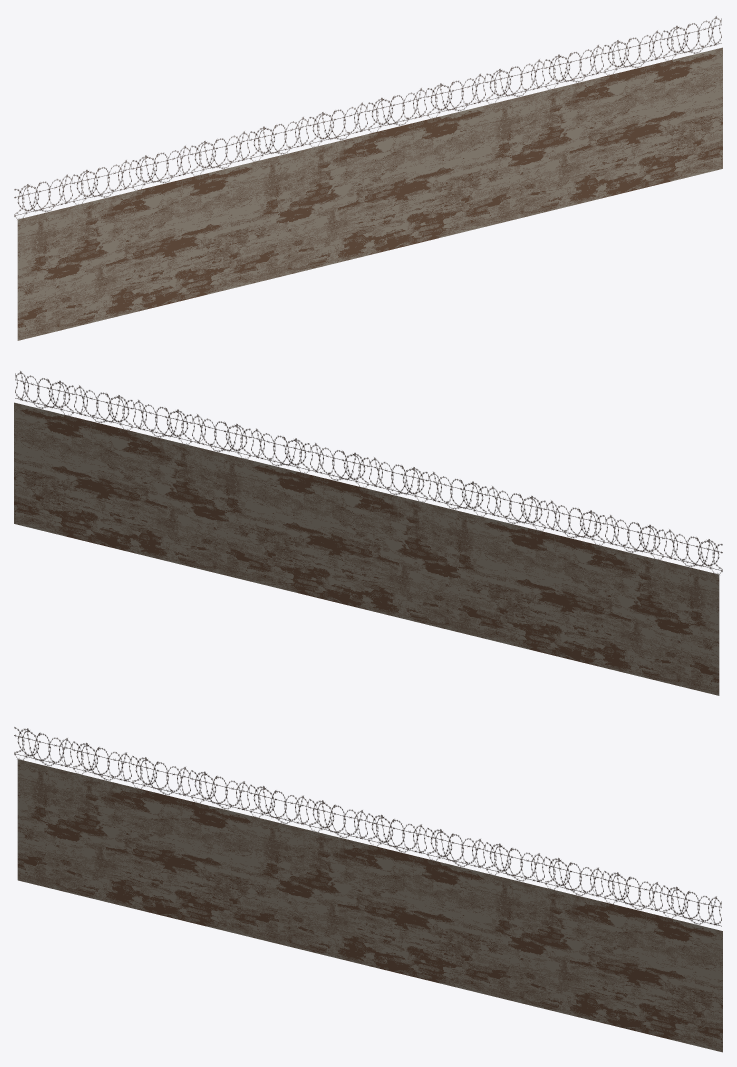
File: wall.glb
The picture shows the model from 3 angles, top to bottom: view 1: azimuth 30°, elevation 25°; view 2: azimuth 150°, elevation 25°; view 3: azimuth 330°, elevation 25°; orthographic projection.
Visible parts, largest first — view 1: Plane.003, barb_wire.003; view 2: Plane.003, barb_wire.003; view 3: Plane.003, barb_wire.003.
Boxes of the visible parts, <box> form: Plane.003: <box>17,47,722,340</box>; barb_wire.003: <box>14,16,721,219</box>; Plane.003: <box>14,402,719,695</box>; barb_wire.003: <box>15,371,722,574</box>; Plane.003: <box>17,759,722,1052</box>; barb_wire.003: <box>14,727,721,926</box>.
Bounding box in the file's own units: 40.22 × 8.4 × 5.72e-06.
2 materials, 2 textured.
